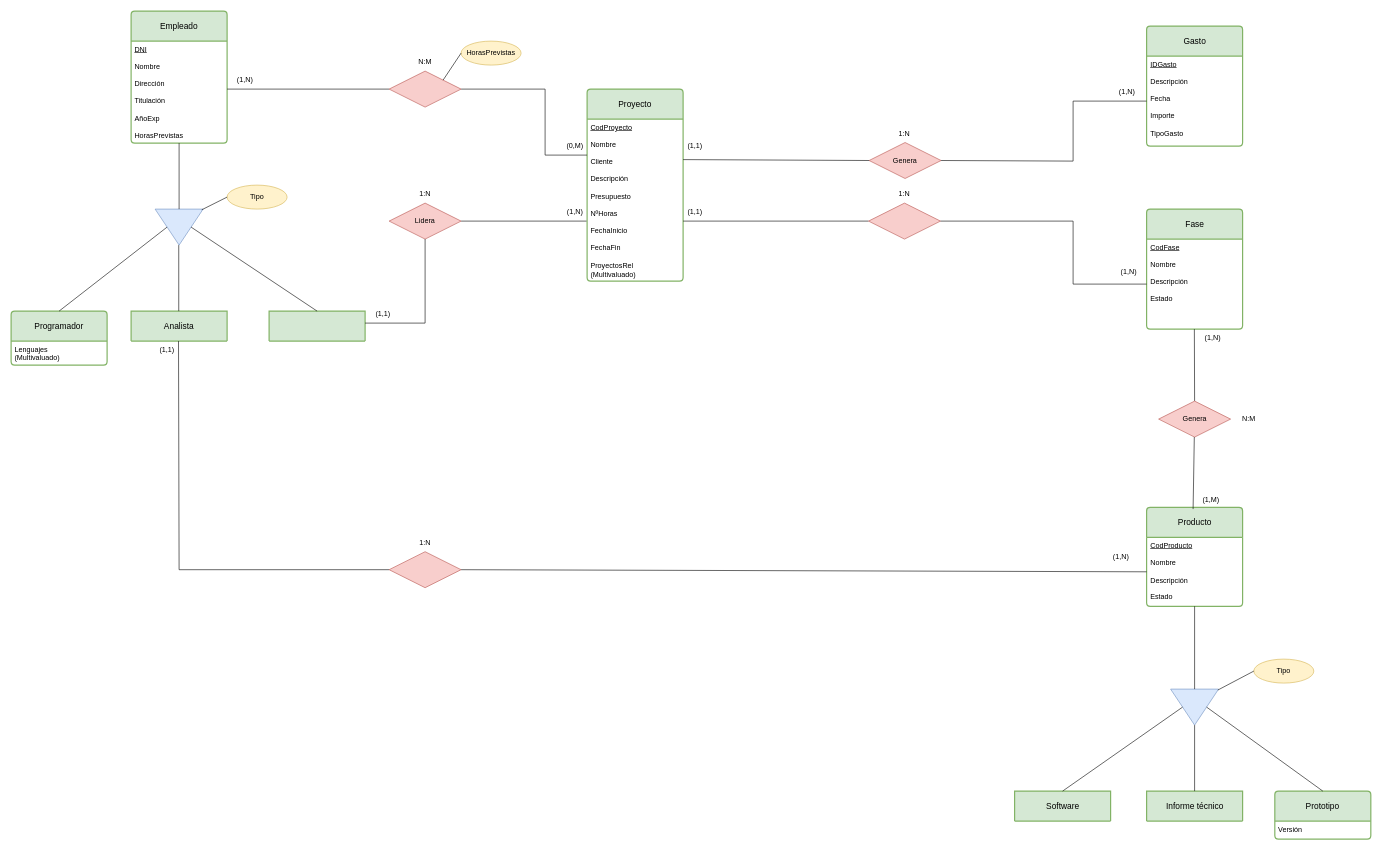
This 1382x850 diagram has some shape labels left out. Each missing label, with the centre of its shape:
"Compone" goes at pixel 904 220.
"Está" goes at pixel 424 88.
"Gestiona" goes at pixel 424 569.
"Jefe" goes at pixel 316 325.
